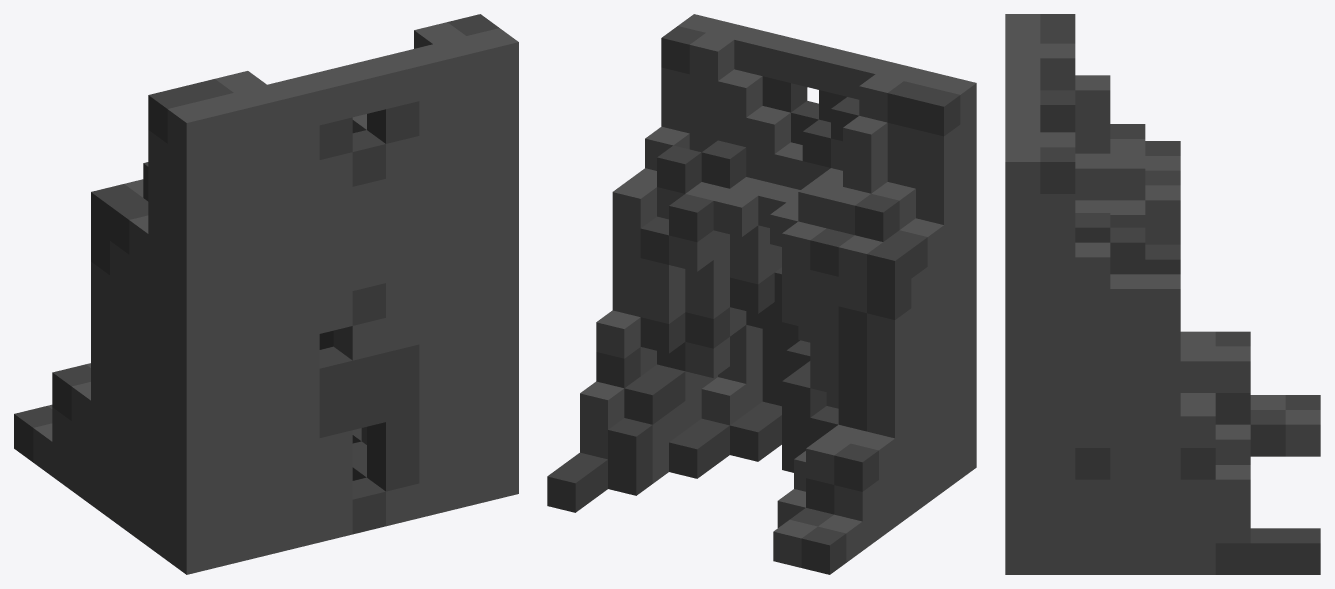
Rendered from Stein_Rand-04.obj.
3 views of the same model, side by side, from view 1: azimuth 30°, elevation 25°; view 2: azimuth 150°, elevation 25°; view 3: azimuth 270°, elevation 25° (orthographic). The views are drawn at different scales.
Bounding box in the file's own units: 1 × 1.3 × 0.9.
1 material, 1 textured.
